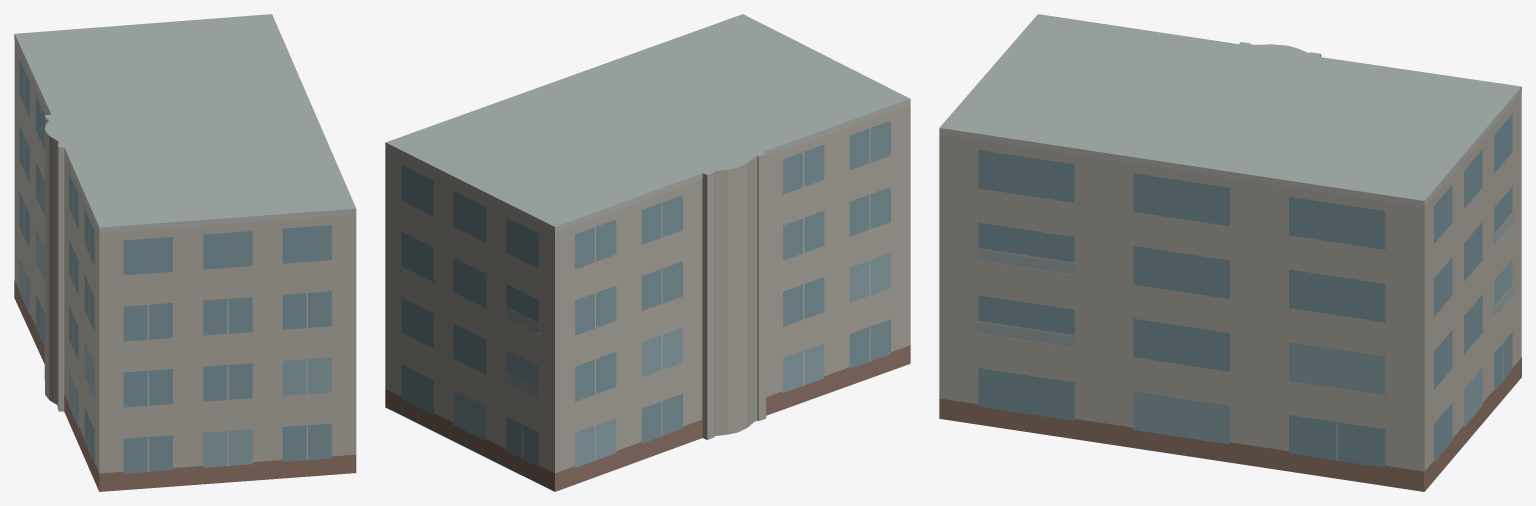
The model's file is survey-upis-32993191.glb.
3 renders of one model, left to right at view 1: azimuth 30°, elevation 25°; view 2: azimuth 150°, elevation 25°; view 3: azimuth 270°, elevation 25°, orthographic. The views are drawn at different scales.
Parts seen in each view (by area): view 1: survey-upis-32993191.tmp; view 2: survey-upis-32993191.tmp; view 3: survey-upis-32993191.tmp.
Boxes of the visible parts, left/top/right/bottom form: survey-upis-32993191.tmp: left=14, top=14, right=356, bottom=491; survey-upis-32993191.tmp: left=385, top=14, right=910, bottom=491; survey-upis-32993191.tmp: left=939, top=14, right=1521, bottom=491.
Size of the model in its own units: 15.04 by 10.9 by 19.79.
